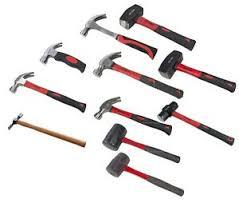hammer: (90, 48, 184, 100), (78, 10, 158, 60), (7, 69, 87, 113), (91, 94, 173, 136)
